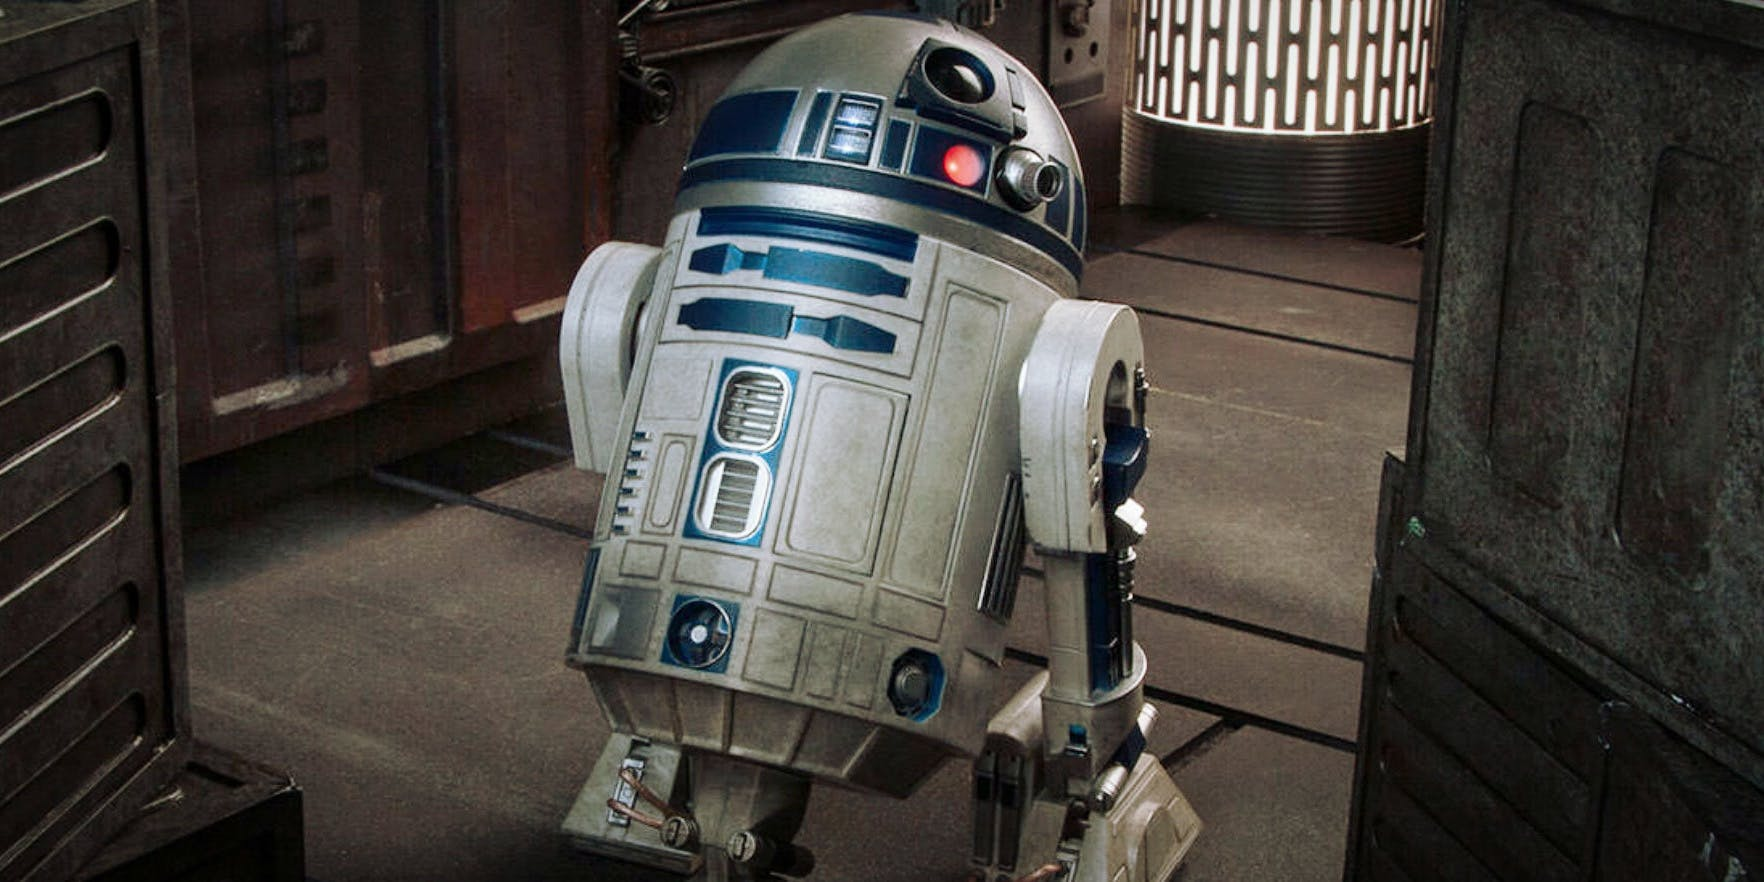r2d2: (548, 31, 1201, 877)
